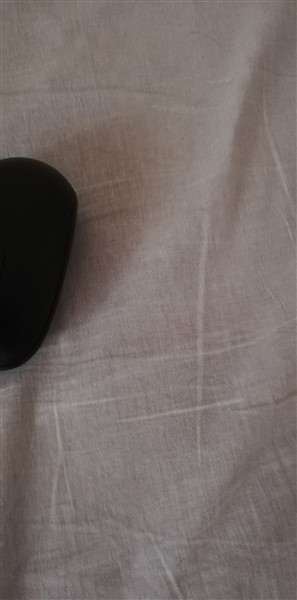mouse: (1, 153, 82, 377)
